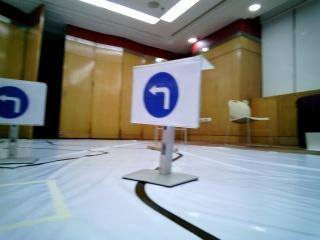left: (140, 72, 191, 118), (0, 81, 44, 124)
